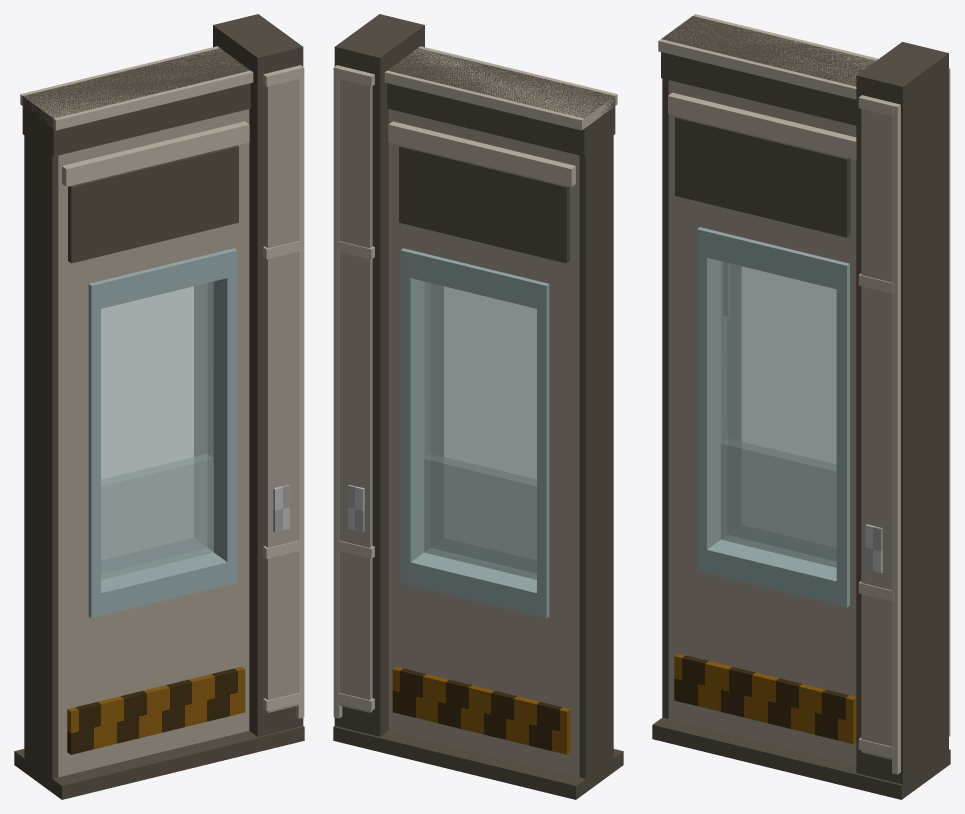
Rendered from CMU3DCMDoubleDoorGenericGlassCloud.glb.
The picture shows the model from 3 angles, left to right: view 1: azimuth 30°, elevation 25°; view 2: azimuth 150°, elevation 25°; view 3: azimuth 330°, elevation 25°; orthographic projection. The views are drawn at different scales.
Parts seen in each view (by area): view 1: single translucent through pane, meeting edge seal, leaf lower rail, jamb recessed tall face -1, outer structural jamb, upper recessed header -1, continuous overhead structural guide, lower translucent pane tint, glazing east rim, leaf west stile, leaf upper rail, original lower hazard stripe -1 (+9 smaller); view 2: single translucent through pane, meeting edge seal, leaf lower rail, jamb recessed tall face 1, outer structural jamb, upper recessed header 1, continuous overhead structural guide, lower translucent pane tint, glazing east rim, leaf west stile, leaf upper rail, original lower hazard stripe 1 (+9 smaller); view 3: outer structural jamb, single translucent through pane, leaf lower rail, jamb recessed tall face -1, upper recessed header -1, lower translucent pane tint, continuous overhead structural guide, glazing west rim, leaf west stile, original lower hazard stripe -1, leaf upper rail, full opening threshold (+10 smaller).
Boxes of the visible parts, left/top/right/bottom form: single translucent through pane: left=101, top=281, right=213, bottom=579; meeting edge seal: left=24, top=135, right=58, bottom=778; leaf lower rail: left=58, top=575, right=249, bottom=777; jamb recessed tall face -1: left=265, top=79, right=298, bottom=712; outer structural jamb: left=213, top=14, right=303, bottom=736; upper recessed header -1: left=68, top=145, right=238, bottom=263; continuous overhead structural guide: left=22, top=48, right=250, bottom=156; lower translucent pane tint: left=101, top=454, right=213, bottom=579; glazing east rim: left=194, top=275, right=237, bottom=564; leaf west stile: left=58, top=289, right=88, bottom=620; leaf upper rail: left=58, top=109, right=249, bottom=296; original lower hazard stripe -1: left=67, top=666, right=245, bottom=754; single translucent through pane: left=424, top=281, right=536, bottom=579; meeting edge seal: left=579, top=135, right=613, bottom=778; leaf lower rail: left=388, top=575, right=579, bottom=777; jamb recessed tall face 1: left=339, top=79, right=372, bottom=712; outer structural jamb: left=334, top=14, right=424, bottom=736; upper recessed header 1: left=399, top=145, right=569, bottom=263; continuous overhead structural guide: left=387, top=48, right=615, bottom=156; lower translucent pane tint: left=424, top=454, right=536, bottom=579; glazing east rim: left=400, top=276, right=443, bottom=564; leaf west stile: left=549, top=289, right=579, bottom=620; leaf upper rail: left=388, top=109, right=579, bottom=296; original lower hazard stripe 1: left=392, top=666, right=570, bottom=754; outer structural jamb: left=856, top=42, right=948, bottom=784; single translucent through pane: left=721, top=261, right=836, bottom=566; leaf lower rail: left=668, top=558, right=856, bottom=764; jamb recessed tall face -1: left=861, top=109, right=891, bottom=759; upper recessed header -1: left=675, top=116, right=850, bottom=237; lower translucent pane tint: left=721, top=439, right=836, bottom=567; continuous overhead structural guide: left=661, top=16, right=875, bottom=125; glazing west rim: left=697, top=255, right=741, bottom=551; leaf west stile: left=668, top=225, right=696, bottom=565; original lower hazard stripe -1: left=674, top=653, right=856, bottom=744; leaf upper rail: left=668, top=80, right=856, bottom=270; full opening threshold: left=652, top=717, right=950, bottom=799.
Bounding box in the file's own units: 1 × 2.73 × 0.38.
Materials: 9 (2 with a texture image).
